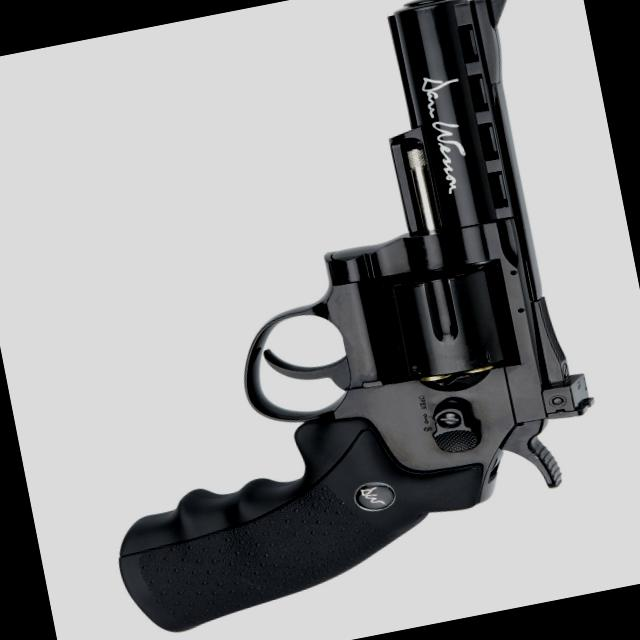handgun: (11, 0, 624, 639)
